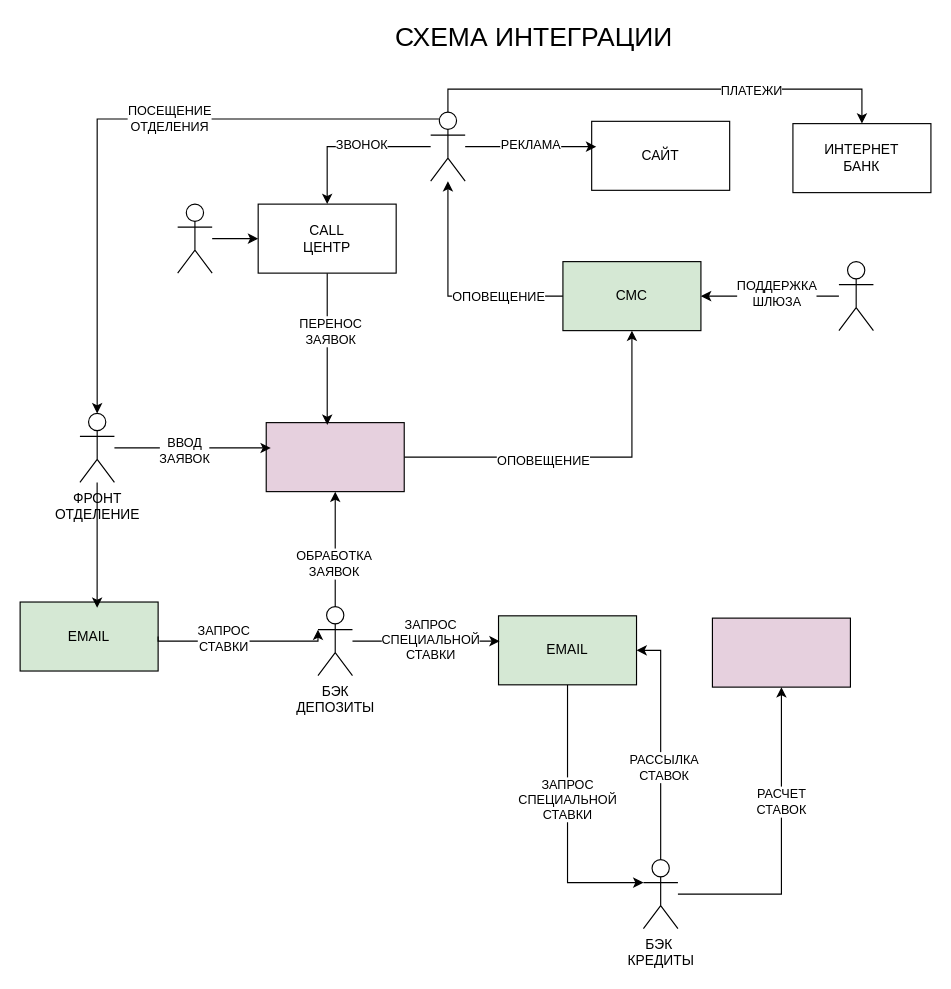
The diagram is 951 pixels wide and 989 high, and some of its shapes have lost their labels. The shapes that lost their labels are listed below. From the top down, each one's centre as x and y in pixels, then its label:
[447,146]: КЛИЕНТ
[194,238]: ФРОНТ КОЛЦЕНТР
[855,295]: IT
[334,456]: АБС ДЕПОЗИТЫ
[780,652]: АБС КРЕДИТЫ
